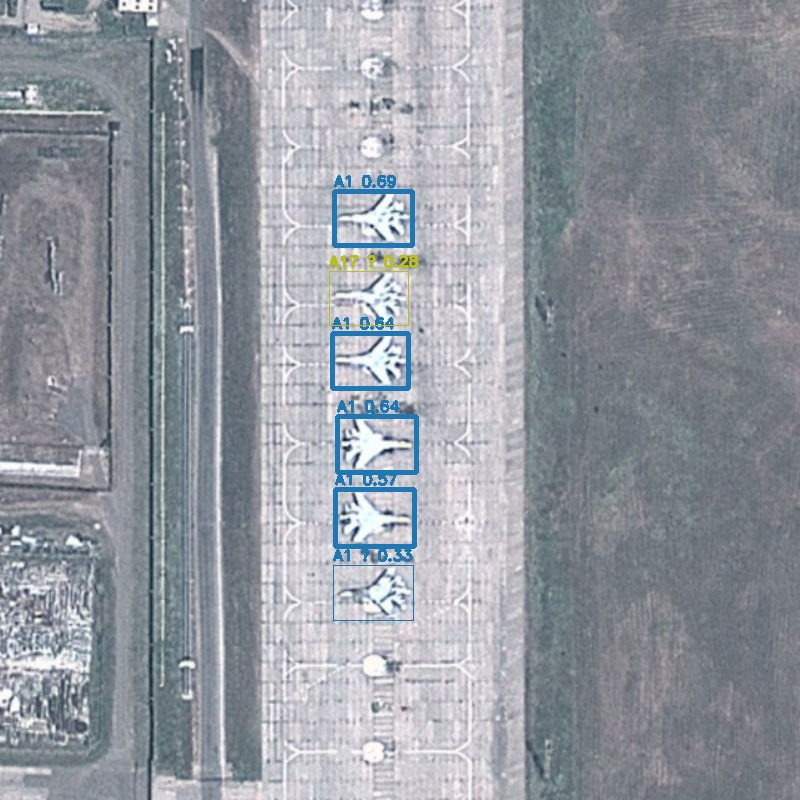A1: (335, 489, 414, 546), (337, 416, 416, 472), (333, 565, 413, 620), (334, 191, 412, 245), (332, 333, 408, 388)
A17: (329, 271, 408, 325)
